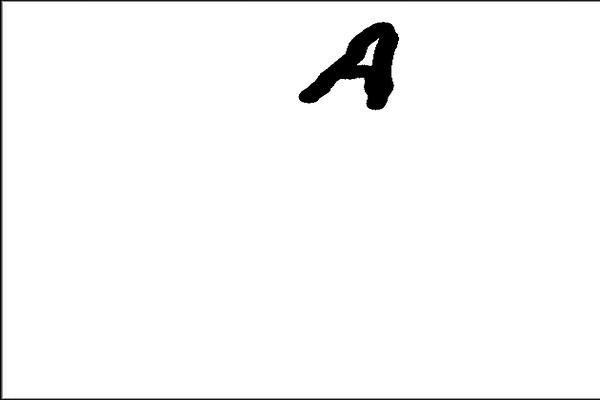A: (296, 14, 400, 116)
